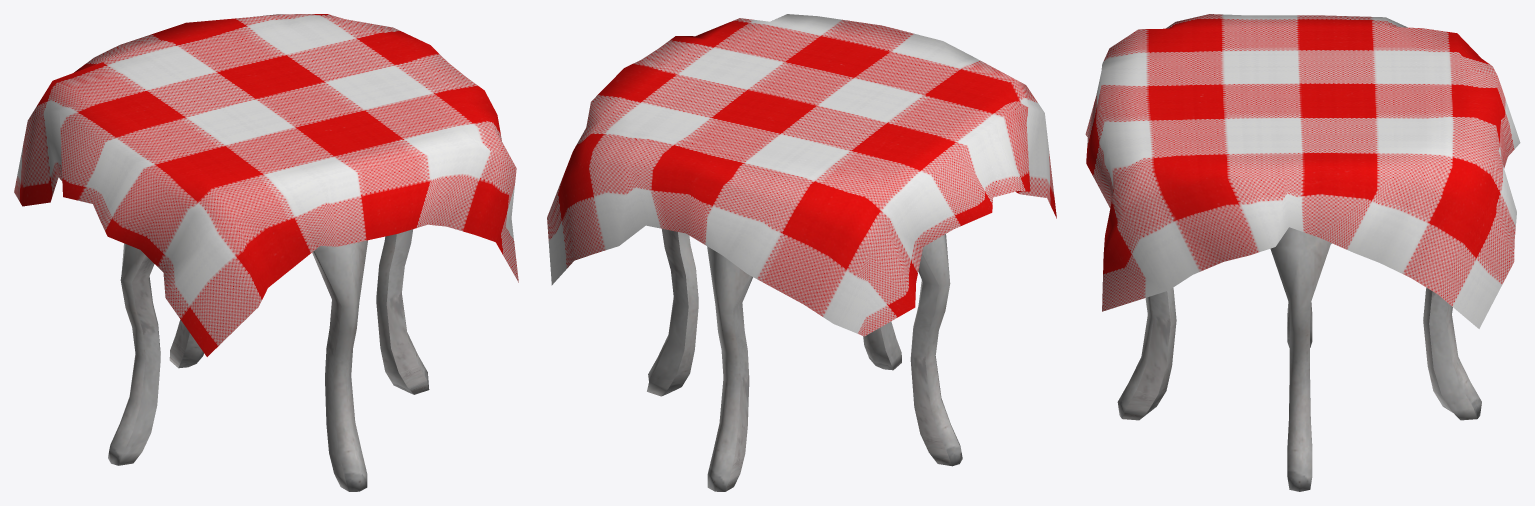
The model's file is Table_Victorian.fbx.
3 renders of one model, left to right at view 1: azimuth 30°, elevation 25°; view 2: azimuth 150°, elevation 25°; view 3: azimuth 270°, elevation 25°, orthographic.
Visible parts, largest first — view 1: Table_Victorian; view 2: Table_Victorian; view 3: Table_Victorian.
Boxes of the visible parts, x1=… form: Table_Victorian: x1=14, y1=14, x2=518, y2=491; Table_Victorian: x1=547, y1=14, x2=1056, y2=491; Table_Victorian: x1=1085, y1=14, x2=1520, y2=491.
Size of the model in its own units: 381 by 301 by 362.
